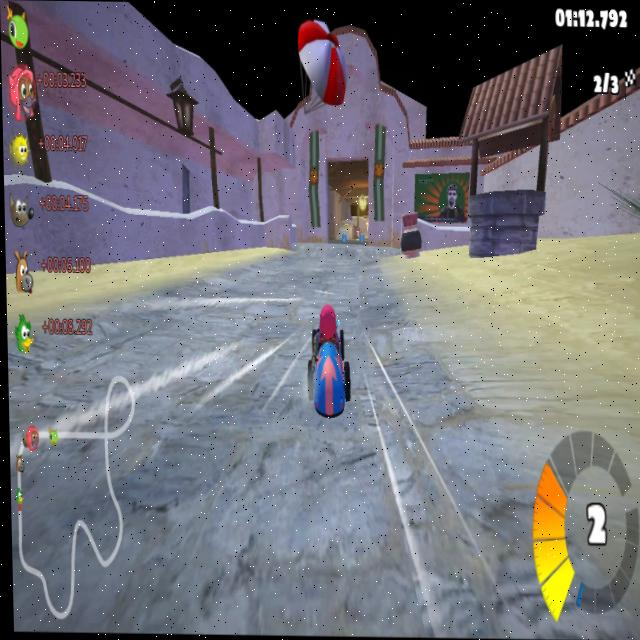bonus: (358, 229, 369, 247), (341, 231, 349, 243)
player_kart: (300, 300, 353, 419)
track: (7, 330, 305, 635), (302, 416, 485, 636), (353, 302, 438, 414), (60, 298, 299, 329), (171, 270, 300, 295), (351, 242, 388, 300), (297, 259, 351, 296), (310, 243, 347, 253), (277, 251, 295, 269), (295, 246, 307, 260)
